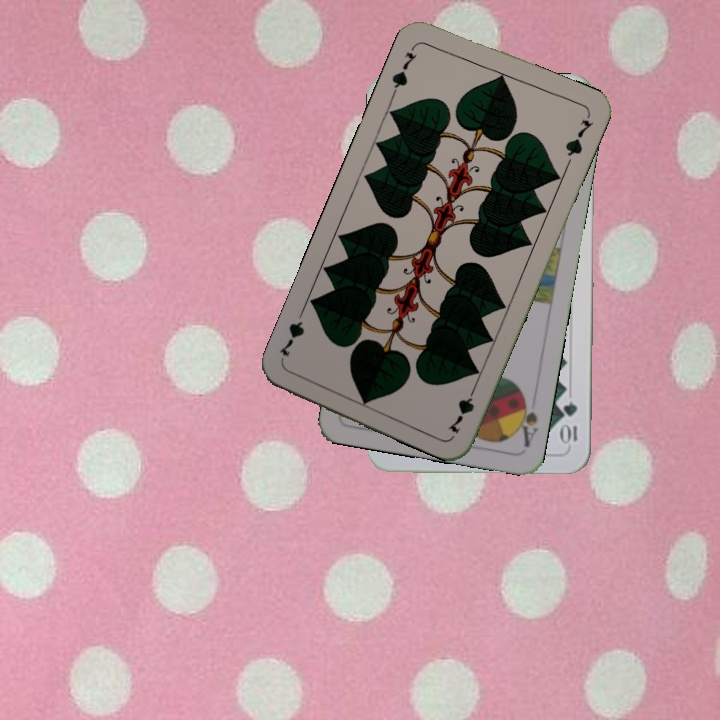G10: (560, 397, 580, 447)
G7: (444, 380, 480, 437), (387, 40, 420, 96)
SA: (512, 389, 540, 450)
